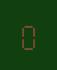zero: (19, 20, 36, 50)
